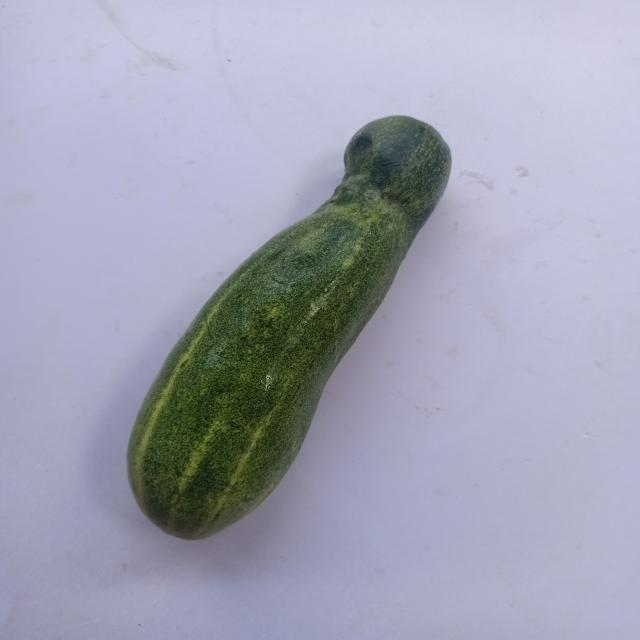Cucumber: (70, 100, 519, 585)
